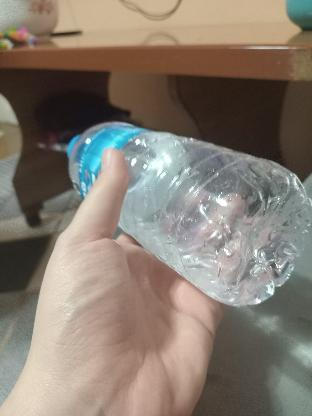Plastic Bottle: (58, 117, 312, 307)
